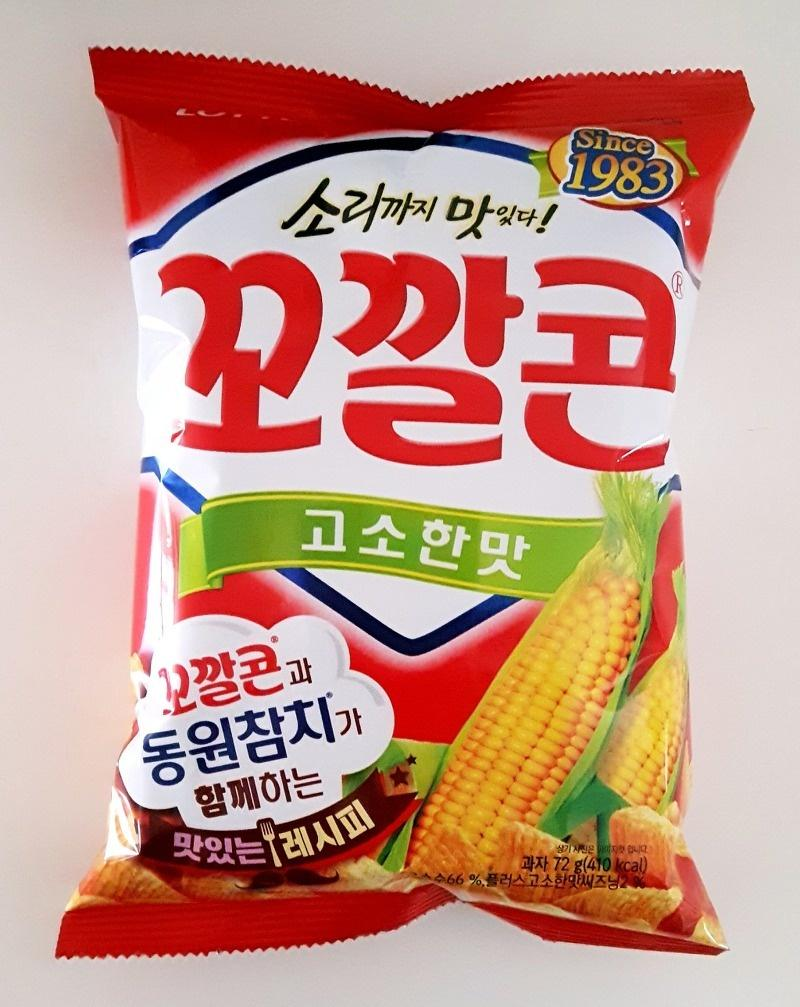snack: (55, 40, 759, 960)
